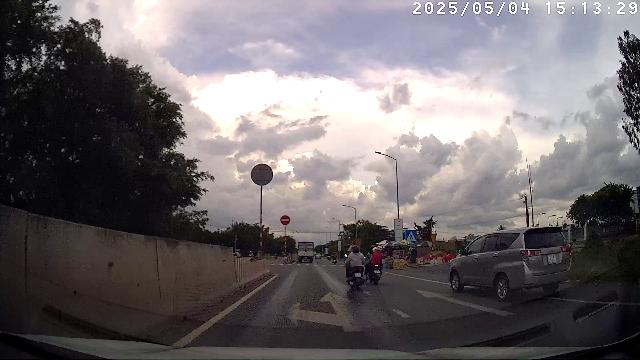102-cam-di-nguoc-chieu: (280, 215, 290, 225)
423a-duong-nguoi-di-bo-sang-ngang-1: (406, 229, 416, 243)
